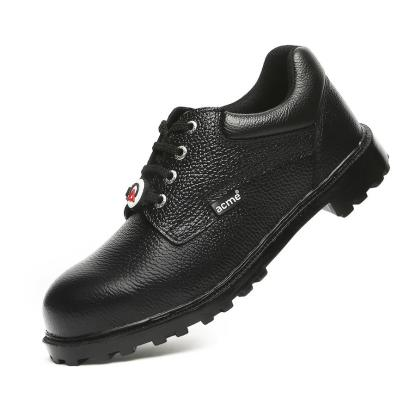bota: (38, 39, 394, 371)
